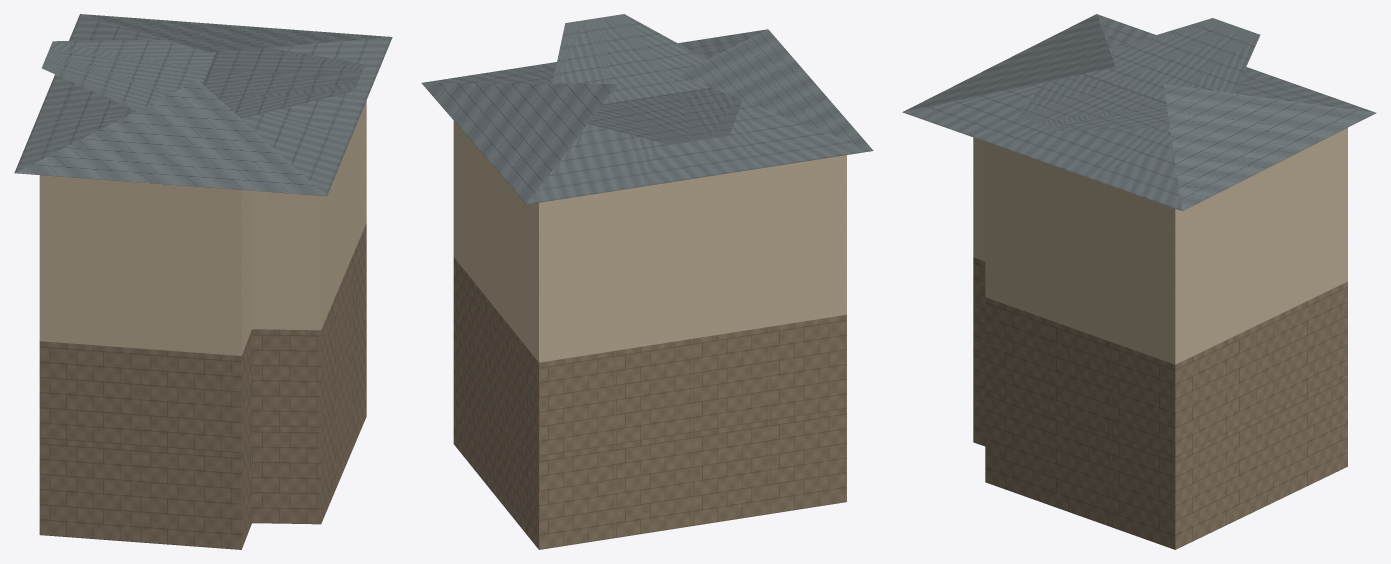
The model's file is bld_c10_43_510.gltf.
3 views of the same model, side by side, from view 1: azimuth 30°, elevation 25°; view 2: azimuth 150°, elevation 25°; view 3: azimuth 270°, elevation 25° (orthographic). The views are drawn at different scales.
Parts seen in each view (by area): view 1: bld_c10_43_510; view 2: bld_c10_43_510; view 3: bld_c10_43_510.
Part boxes in pixels (x1,y1,x2,y2): bld_c10_43_510: (14, 14, 392, 549); bld_c10_43_510: (421, 14, 873, 549); bld_c10_43_510: (902, 14, 1376, 549).
Bounding box in the file's own units: 11.4 × 10.5 × 11.59.
3 materials, 3 textured.
